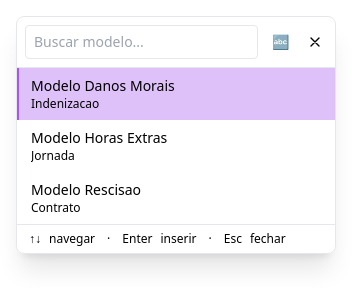
Test: SlashCommandMenu › Semantic Search › should toggle back to textual search after clicking twice
Click the button titled "Busca textual (por palavras)".
click(280, 42)  # box [266, 26, 295, 58]
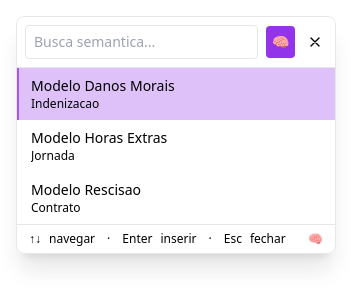
Click the button titled "Busca semantica (por significado)".
click(280, 42)  # box [266, 26, 295, 58]
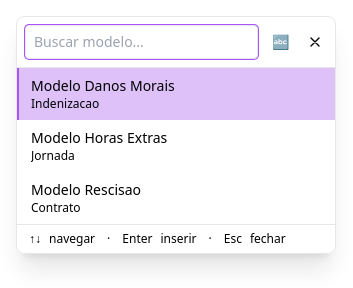
Check: the field with placeholder "Buscar modelo..." is shown, box [25, 25, 258, 59]
